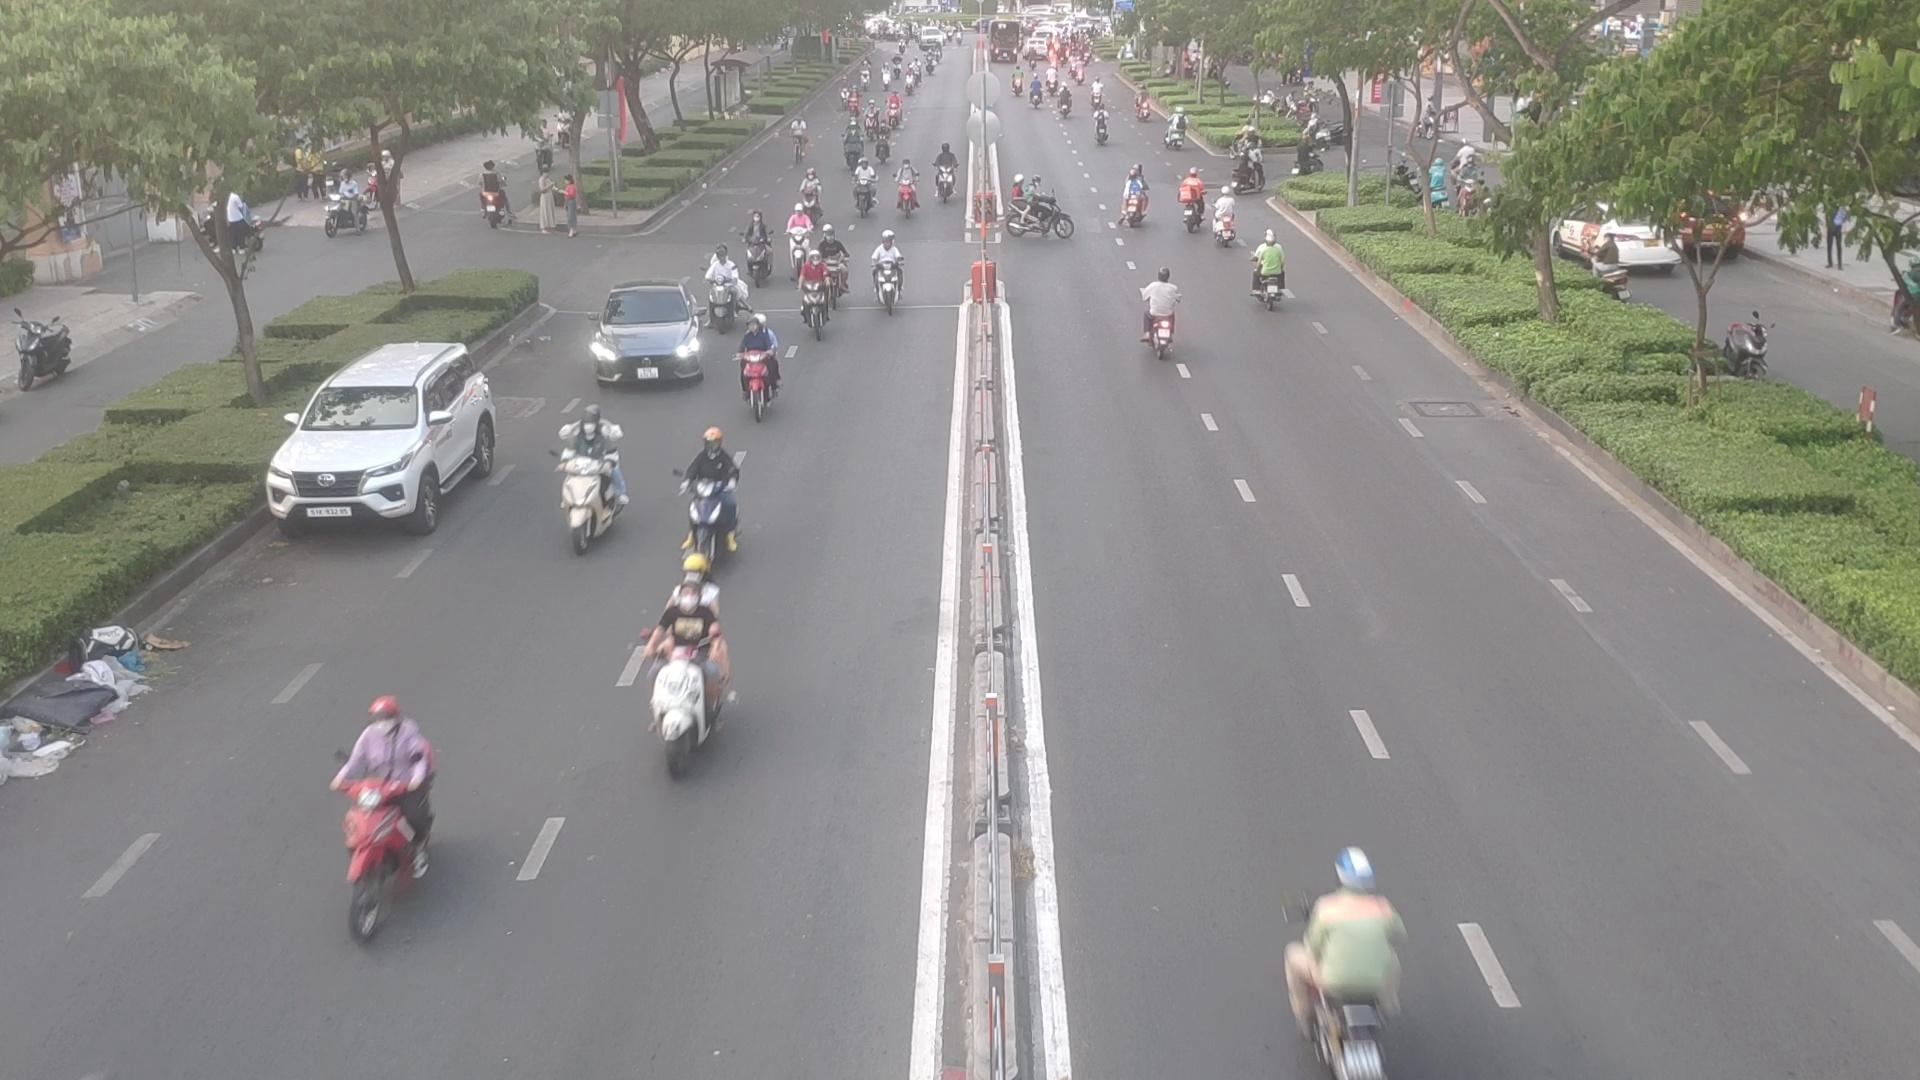car: (269, 344, 514, 535), (583, 284, 707, 386)
motorbike: (1262, 837, 1423, 1077), (322, 698, 450, 940), (615, 589, 731, 771), (554, 414, 636, 549), (674, 431, 742, 553), (732, 316, 791, 418), (1004, 175, 1079, 247), (1134, 272, 1189, 357), (1245, 237, 1298, 309), (866, 232, 911, 313), (702, 257, 752, 327), (808, 231, 855, 298), (796, 249, 831, 336), (740, 216, 775, 284), (1175, 171, 1209, 229), (848, 157, 877, 222), (1124, 173, 1155, 225), (789, 208, 820, 261), (1211, 189, 1236, 251), (934, 145, 959, 203), (895, 162, 923, 212), (799, 171, 829, 216), (872, 119, 890, 167), (843, 120, 860, 169)
